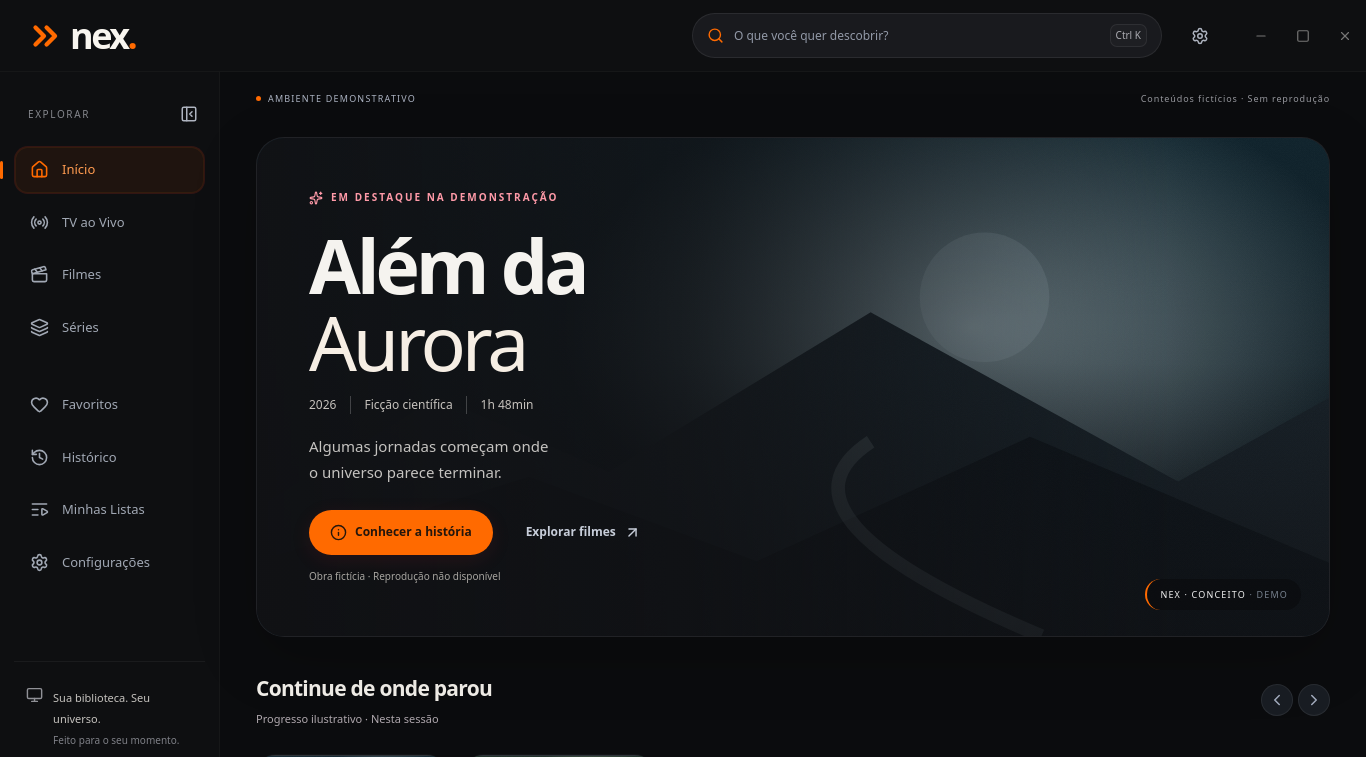
Fase 2 › abre busca por Ctrl+K e navega ao resultado por teclado
Expected: the 1st heading is shown, [309,214,585,393]
Type keys "{Control>}k{/Control}"
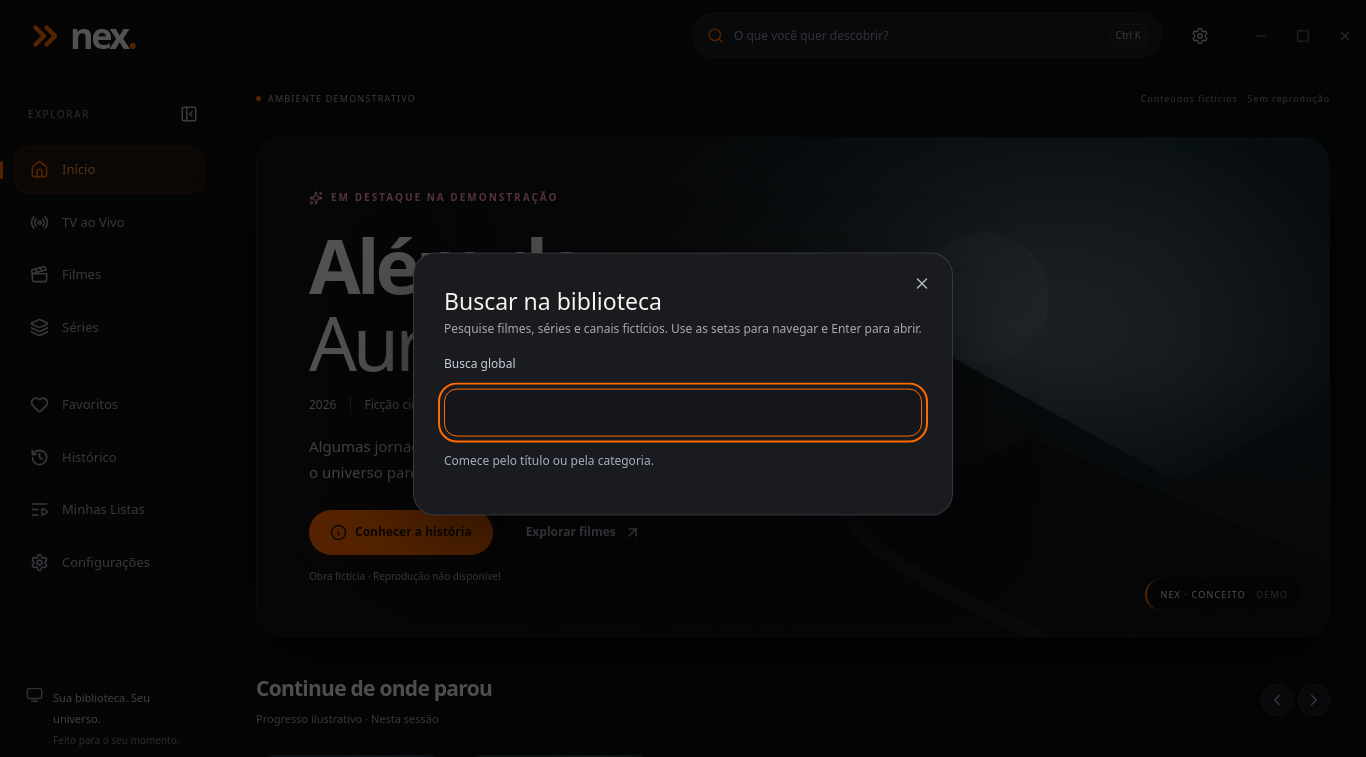
Type "atlas" into the search field labelled "Busca global".
click(683, 412); type("atlas")  # box [444,388,922,436]
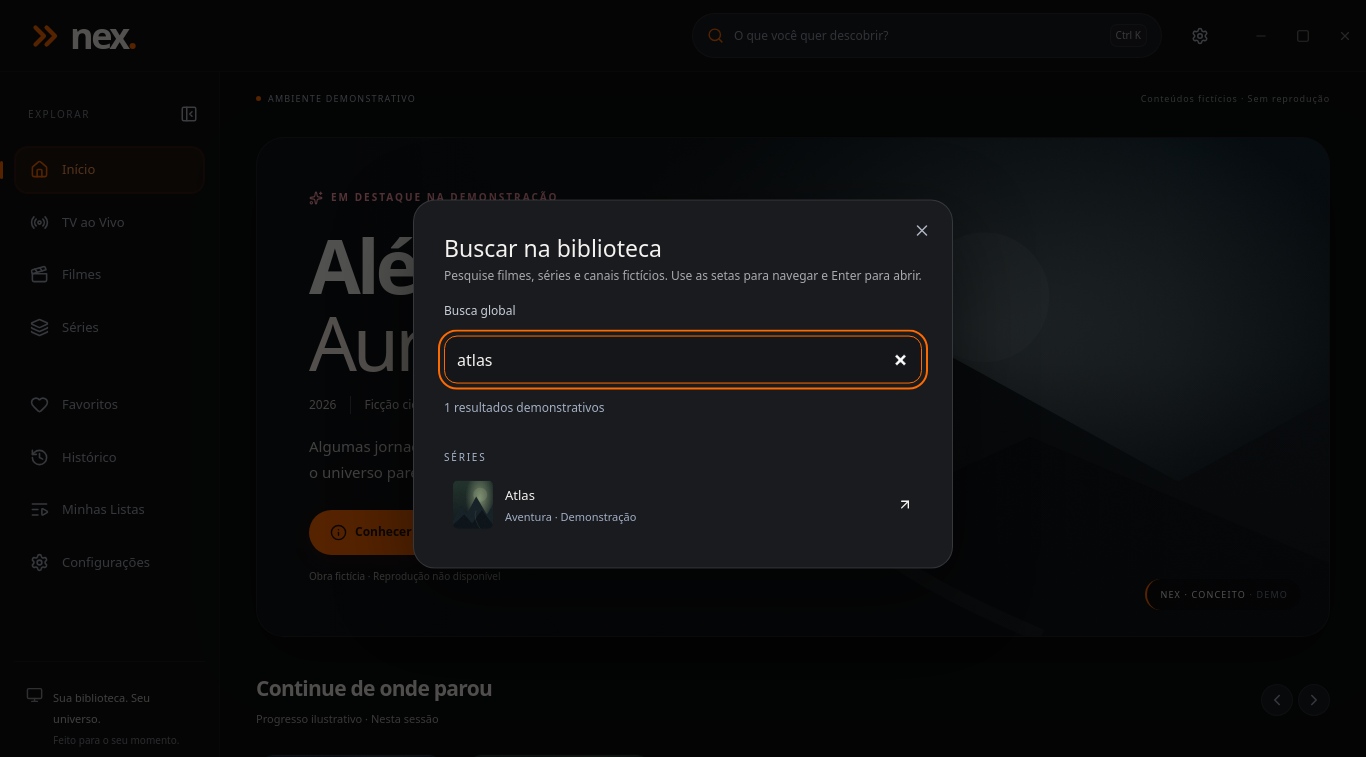
Press Arrowdown
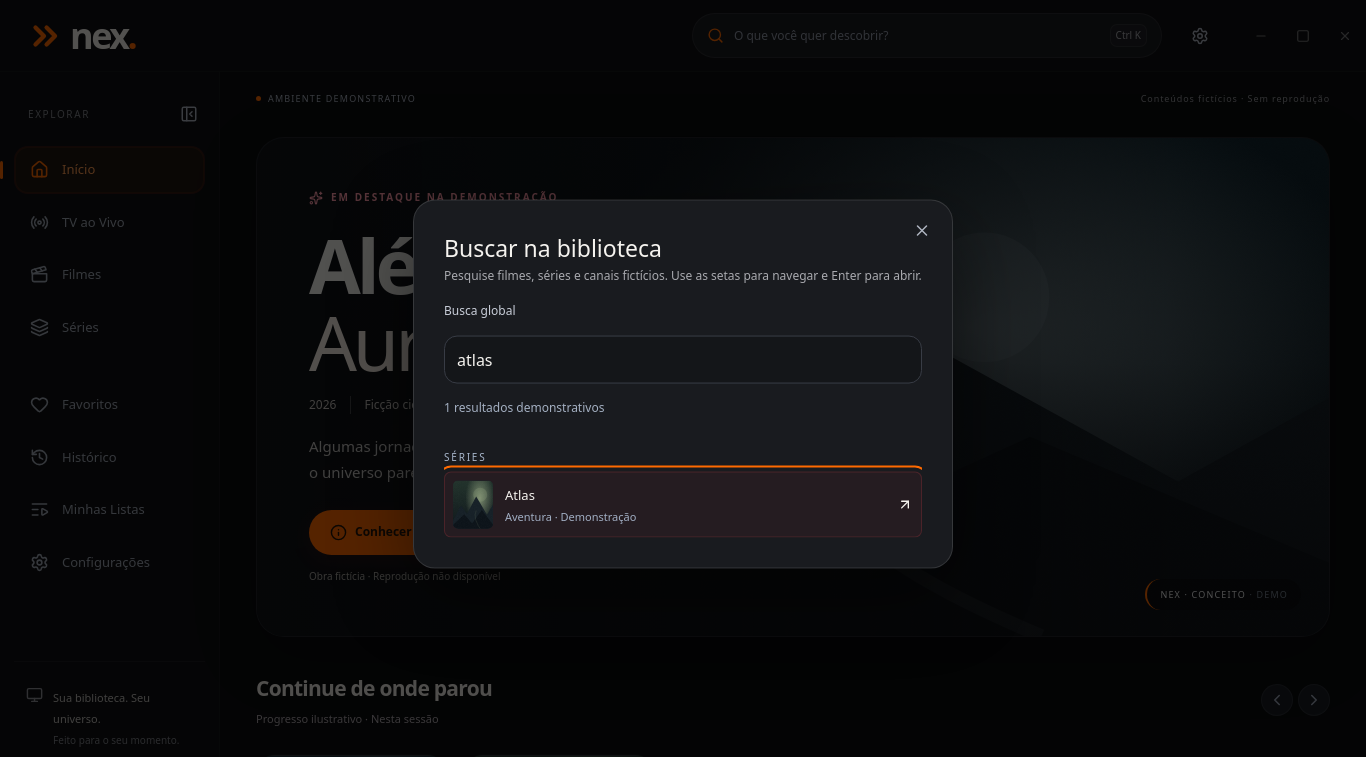
Press Enter
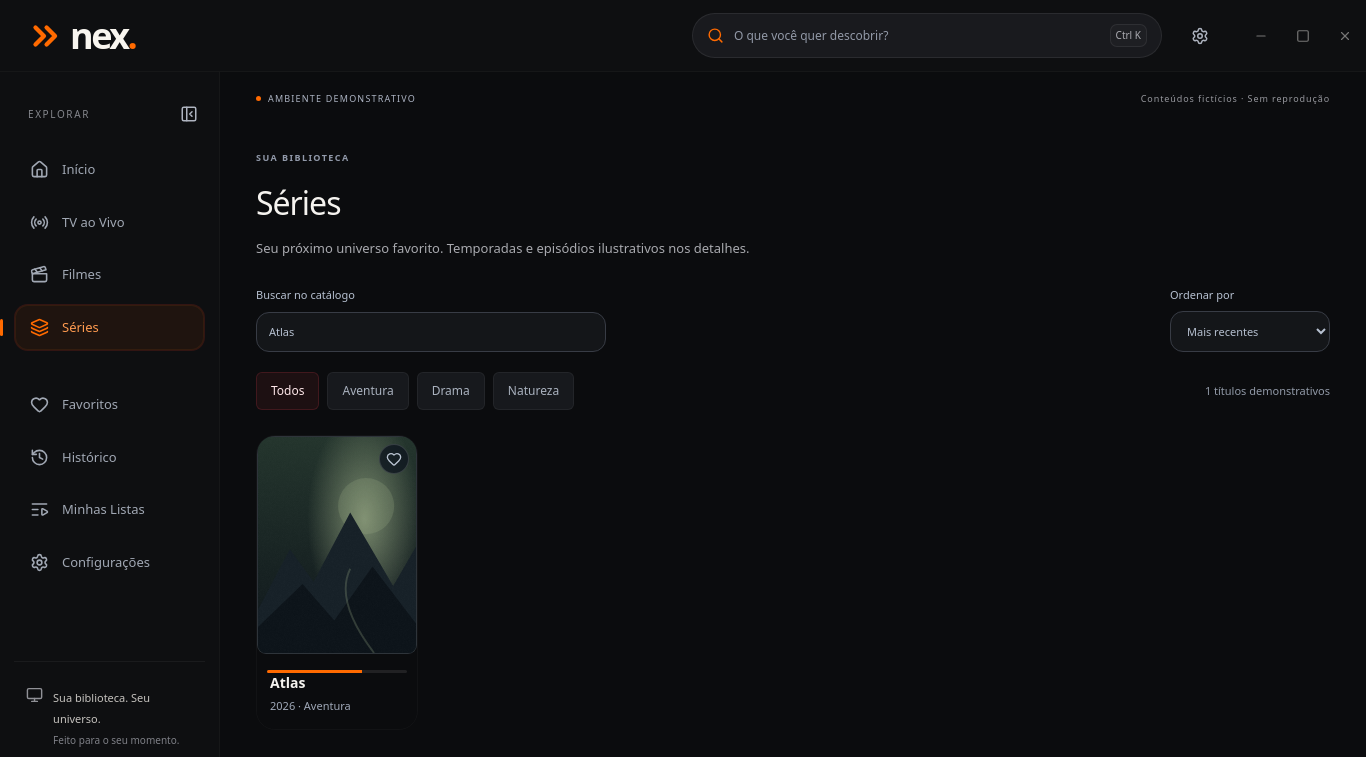
Expected: the text "Atlas" is shown, [270,673,305,692]
Expected: the heading "Séries" is shown, [256,180,340,224]
Expected: the dialog is gone
